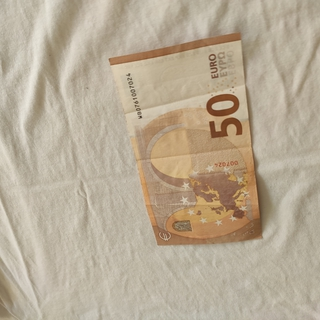50EUROBack: (107, 31, 264, 247)
